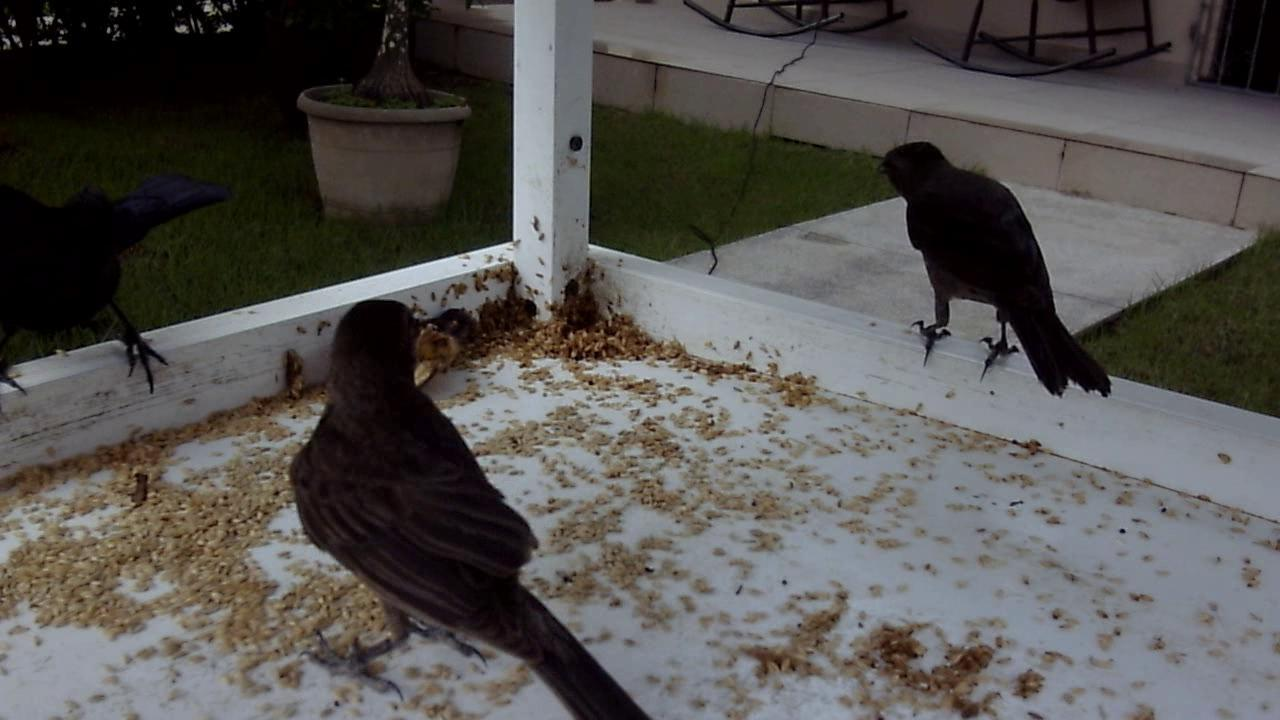chupim: (279, 291, 662, 720), (863, 126, 1117, 408), (7, 170, 239, 409)
